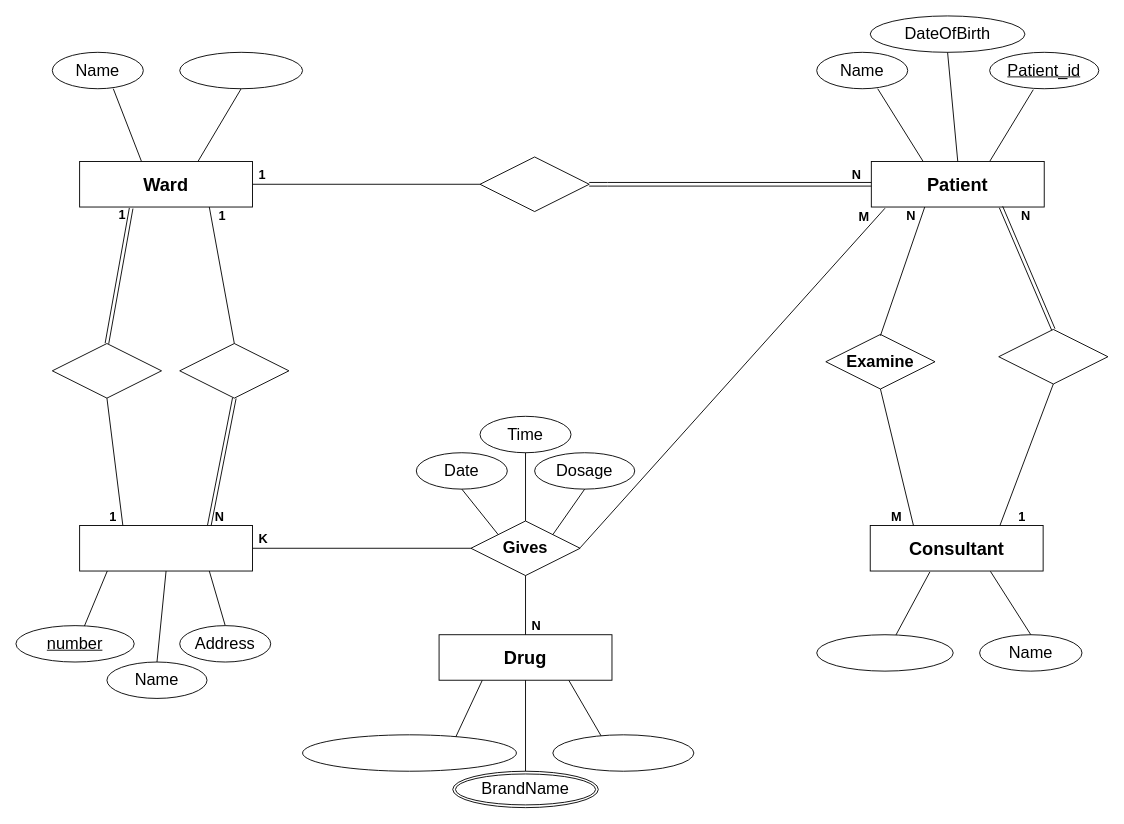
Some shapes in this 1124 by 824 pixel diagram are drawn without their labels. The shapes that lost their labels are listed below. From the top down, each one's box as (x1, y1, x2, y2) in pixels, then its label:
(179, 51, 303, 89): Ward_id
(479, 156, 589, 212): Host
(51, 343, 162, 398): Supervises
(179, 343, 289, 398): Serve
(998, 329, 1108, 384): Assign
(79, 525, 253, 571): Nurse
(816, 634, 953, 671): Consultant_id
(302, 734, 516, 771): RecommendedDosage
(552, 734, 694, 771): Code_number
